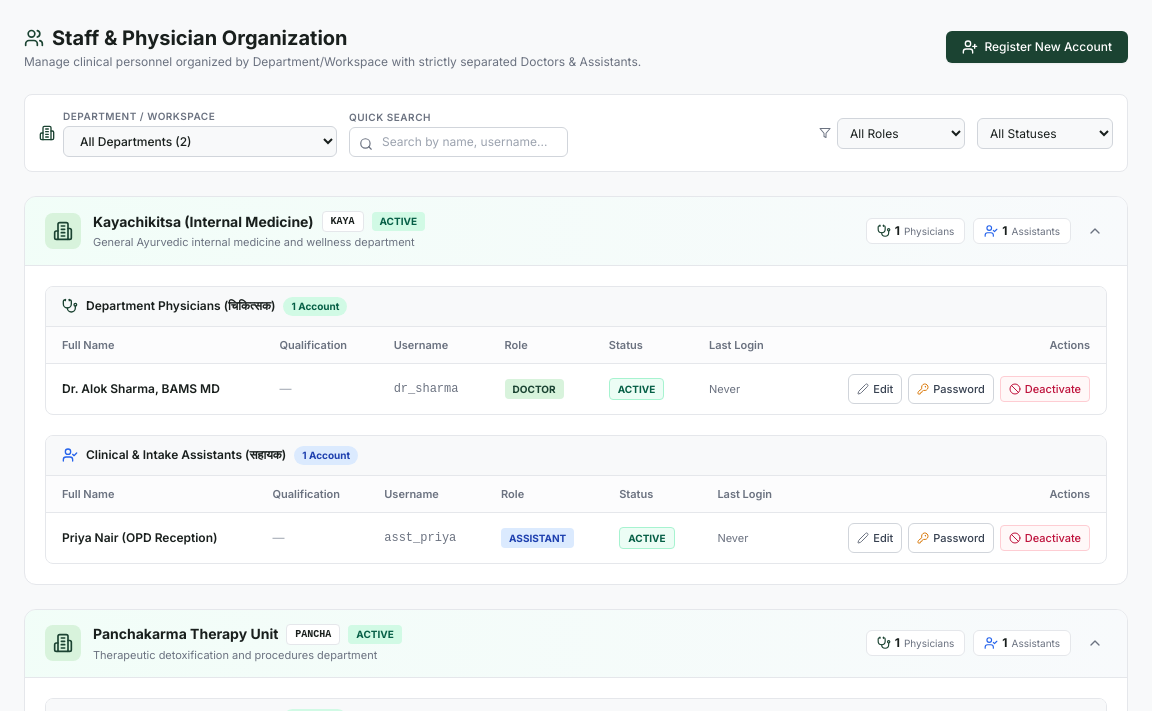
Authority Panel — Department & Role Organization (UsersView) › filters users by search query
Check: the text "Dr. Alok Sharma, BAMS MD" is shown, box [46,363,264,414]
Type "dr_varu" into the field with placeholder "Search by name, username..." at [458, 142], box [349,126,568,156]
(page scrolled)
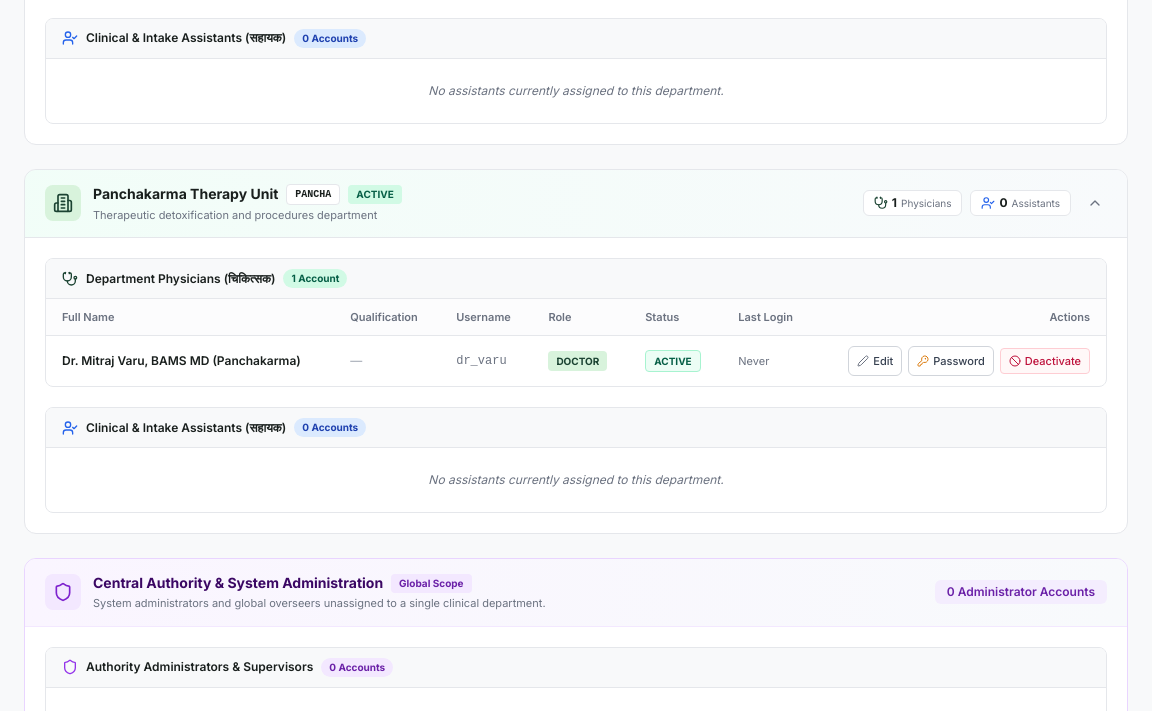
Check: the text "Dr. Mitraj Varu, BAMS MD (Panchakarma)" is shown, box [46,336,334,386]
Check: the text "Dr. Alok Sharma, BAMS MD" is gone
